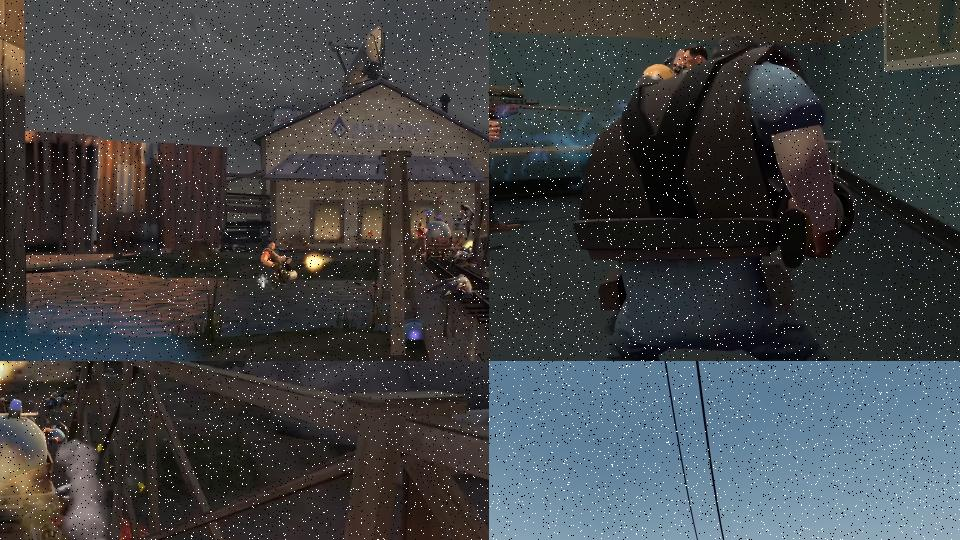Enemy: (571, 33, 858, 361), (489, 42, 596, 250), (261, 242, 308, 285), (422, 273, 489, 299), (413, 222, 429, 263), (42, 422, 68, 446), (460, 204, 476, 241), (43, 391, 72, 410)
